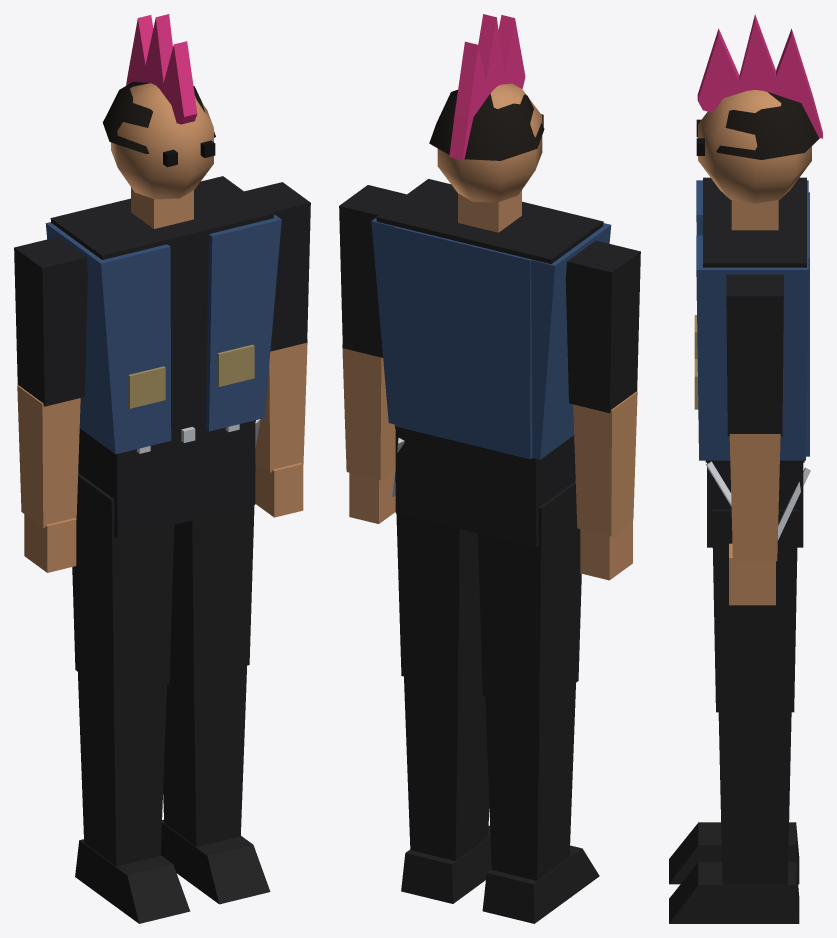
The model's file is npc_anak_punk.glb.
3 views of the same model, side by side, from view 1: azimuth 30°, elevation 25°; view 2: azimuth 150°, elevation 25°; view 3: azimuth 270°, elevation 25° (orthographic).
Visible parts, largest first — view 1: torso, leg_r, leg_l, arm_r, head, arm_l; view 2: torso, leg_r, leg_l, arm_r, head, arm_l; view 3: leg_l, torso, arm_l, head, leg_r.
Boxes of the visible parts, x1=… form: torso: x1=45, y1=176, x2=281, y2=538; leg_r: x1=72, y1=473, x2=190, y2=923; leg_l: x1=160, y1=465, x2=270, y2=904; arm_r: x1=14, y1=237, x2=87, y2=572; head: x1=102, y1=14, x2=215, y2=199; arm_l: x1=244, y1=182, x2=310, y2=517; torso: x1=371, y1=179, x2=611, y2=547; leg_r: x1=478, y1=481, x2=599, y2=923; leg_l: x1=395, y1=473, x2=491, y2=903; arm_r: x1=565, y1=240, x2=640, y2=580; head: x1=429, y1=14, x2=544, y2=202; arm_l: x1=339, y1=185, x2=406, y2=523; leg_l: x1=669, y1=509, x2=799, y2=923; torso: x1=694, y1=177, x2=810, y2=547; arm_l: x1=726, y1=274, x2=783, y2=605; head: x1=696, y1=14, x2=822, y2=203; leg_r: x1=669, y1=822, x2=799, y2=884.
Size of the model in its own units: 0.5822 by 1.78 by 0.2846.
1 material, 1 textured.
